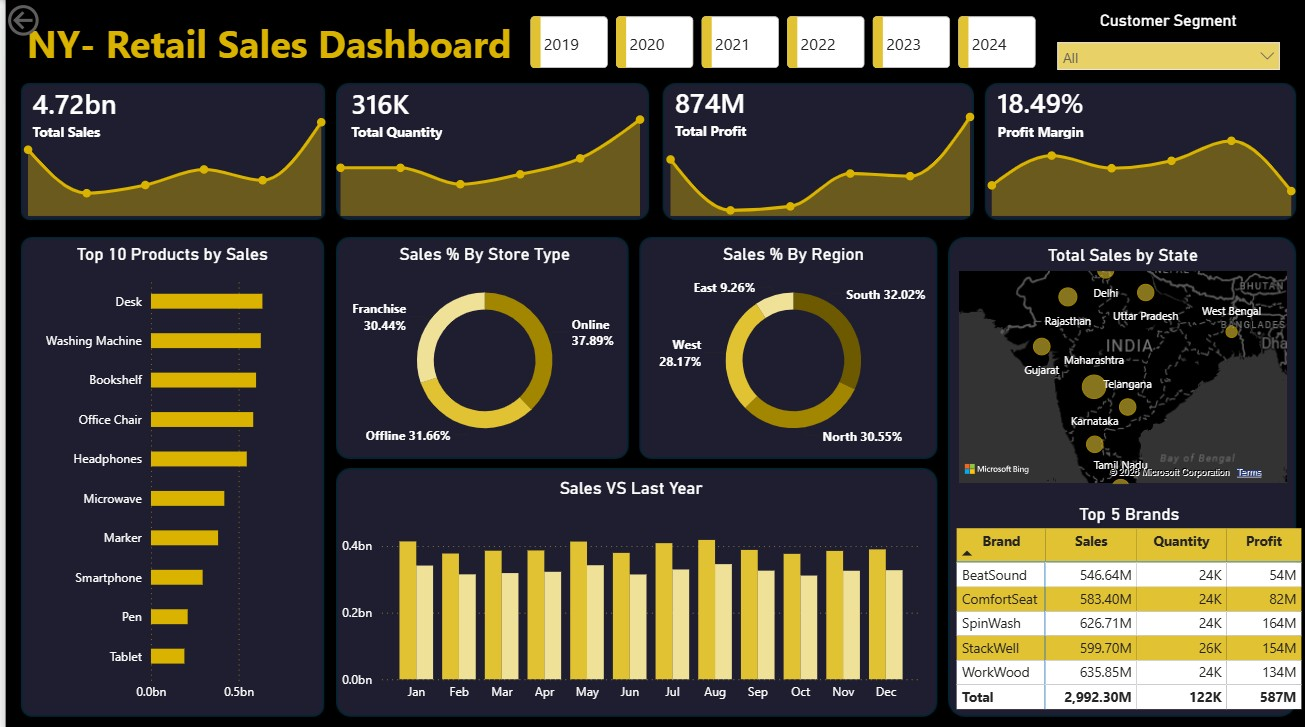

The dashboard page shown, as its layout file describes it:
{"tool":"powerbi","page":{"name":"Page 1","canvas":[1280,720],"ordinal":0},"visuals":[{"type":"textbox","box":[18.4,12.3,495.7,60.1],"z":2},{"type":"cardVisual","fields":{"Data":["1_Measure.Total Sales"]},"box":[0,61.4,171.8,98.2],"z":3},{"type":"cardVisual","fields":{"Data":["1_Measure.Total Quantity"]},"box":[312.9,61.4,171.8,98.2],"z":4},{"type":"cardVisual","fields":{"Data":["1_Measure.Total Profit"]},"box":[630.7,42.9,229.4,133.7],"z":5},{"type":"cardVisual","fields":{"Data":["1_Measure.Profit Margin"]},"box":[947.2,66.3,155.8,87.1],"z":6},{"type":"areaChart","fields":{"Y":["1_Measure.Total Sales"],"Category":["Calender Table.Year"]},"box":[9.8,88.3,317.8,128.8],"z":7},{"type":"areaChart","fields":{"Y":["1_Measure.Total Quantity"],"Category":["Calender Table.Year"]},"box":[316.6,72.4,323.9,144.8],"z":8},{"type":"areaChart","fields":{"Y":["1_Measure.Total Profit"],"Category":["Calender Table.Year"]},"box":[640.5,95.7,323.9,121.5],"z":9},{"type":"areaChart","fields":{"Y":["1_Measure.Profit Margin"],"Category":["Calender Table.Year"]},"box":[955.8,120.2,323.9,96.9],"z":10},{"type":"barChart","title":"Top 10 Products by Sales","fields":{"Y":["1_Measure.Total Sales"],"Category":["Dim_Product.ProductName"]},"box":[29.4,239.3,273.6,457.7],"z":11},{"type":"donutChart","title":"Sales % By Store Type","fields":{"Y":["1_Measure.Total Sales"],"Category":["Dim_Store.StoreType"]},"box":[327.6,239.3,290.8,208.6],"z":12},{"type":"donutChart","title":"Sales % By Region","fields":{"Y":["1_Measure.Total Sales"],"Category":["Dim_Customer.Region"]},"box":[630.7,239.3,290.8,208.6],"z":13},{"type":"clusteredColumnChart","title":"Sales VS Last Year","fields":{"Category":["Calender Table.Month Name"],"Y":["1_Measure.Total Sales","1_Measure.Sales LY"]},"box":[327.6,468.7,577.9,228.2],"z":14},{"type":"map","fields":{"Category":["Dim_Store.State"],"Size":["1_Measure.Total Sales"]},"box":[933.7,240.5,331.3,239.3],"z":15},{"type":"pivotTable","title":"Top 5 Brands","fields":{"Rows":["Dim_Product.Brand"],"Values":["1_Measure.Total Sales","1_Measure.Total Quantity","1_Measure.Total Profit"]},"box":[931.7,494,348.5,212.7],"z":16},{"type":"actionButton","box":[0,0,100,40],"z":17},{"type":"advancedSlicerVisual","fields":{"Values":["Calender Table.Year"]},"box":[513.2,11,511.8,61.7],"z":18},{"type":"slicer","title":"Customer Segment","fields":{"Values":["Dim_Customer.Segment"]},"box":[1025,11,238.8,61.7],"z":19}]}

Visuals, with their boxes in screenshot pixels (x1, y1, x2, y2), scaled from the page's 1280x720 canvas onto the 1305x727 screenshot:
textbox: 19, 12, 524, 73
cardVisual - 1_Measure.Total Sales: 0, 62, 175, 161
cardVisual - 1_Measure.Total Quantity: 319, 62, 494, 161
cardVisual - 1_Measure.Total Profit: 643, 43, 877, 178
cardVisual - 1_Measure.Profit Margin: 966, 67, 1125, 155
areaChart - 1_Measure.Total Sales x Calender Table.Year: 10, 89, 334, 219
areaChart - 1_Measure.Total Quantity x Calender Table.Year: 323, 73, 653, 219
areaChart - 1_Measure.Total Profit x Calender Table.Year: 653, 97, 983, 219
areaChart - 1_Measure.Profit Margin x Calender Table.Year: 974, 121, 1304, 219
"Top 10 Products by Sales" barChart: 30, 242, 309, 704
"Sales % By Store Type" donutChart: 334, 242, 630, 452
"Sales % By Region" donutChart: 643, 242, 939, 452
"Sales VS Last Year" clusteredColumnChart: 334, 473, 923, 704
map - Dim_Store.State x 1_Measure.Total Sales: 952, 243, 1290, 484
"Top 5 Brands" pivotTable: 950, 499, 1304, 714
actionButton: 0, 0, 102, 40
advancedSlicerVisual - Calender Table.Year: 523, 11, 1045, 73
"Customer Segment" slicer: 1045, 11, 1288, 73
